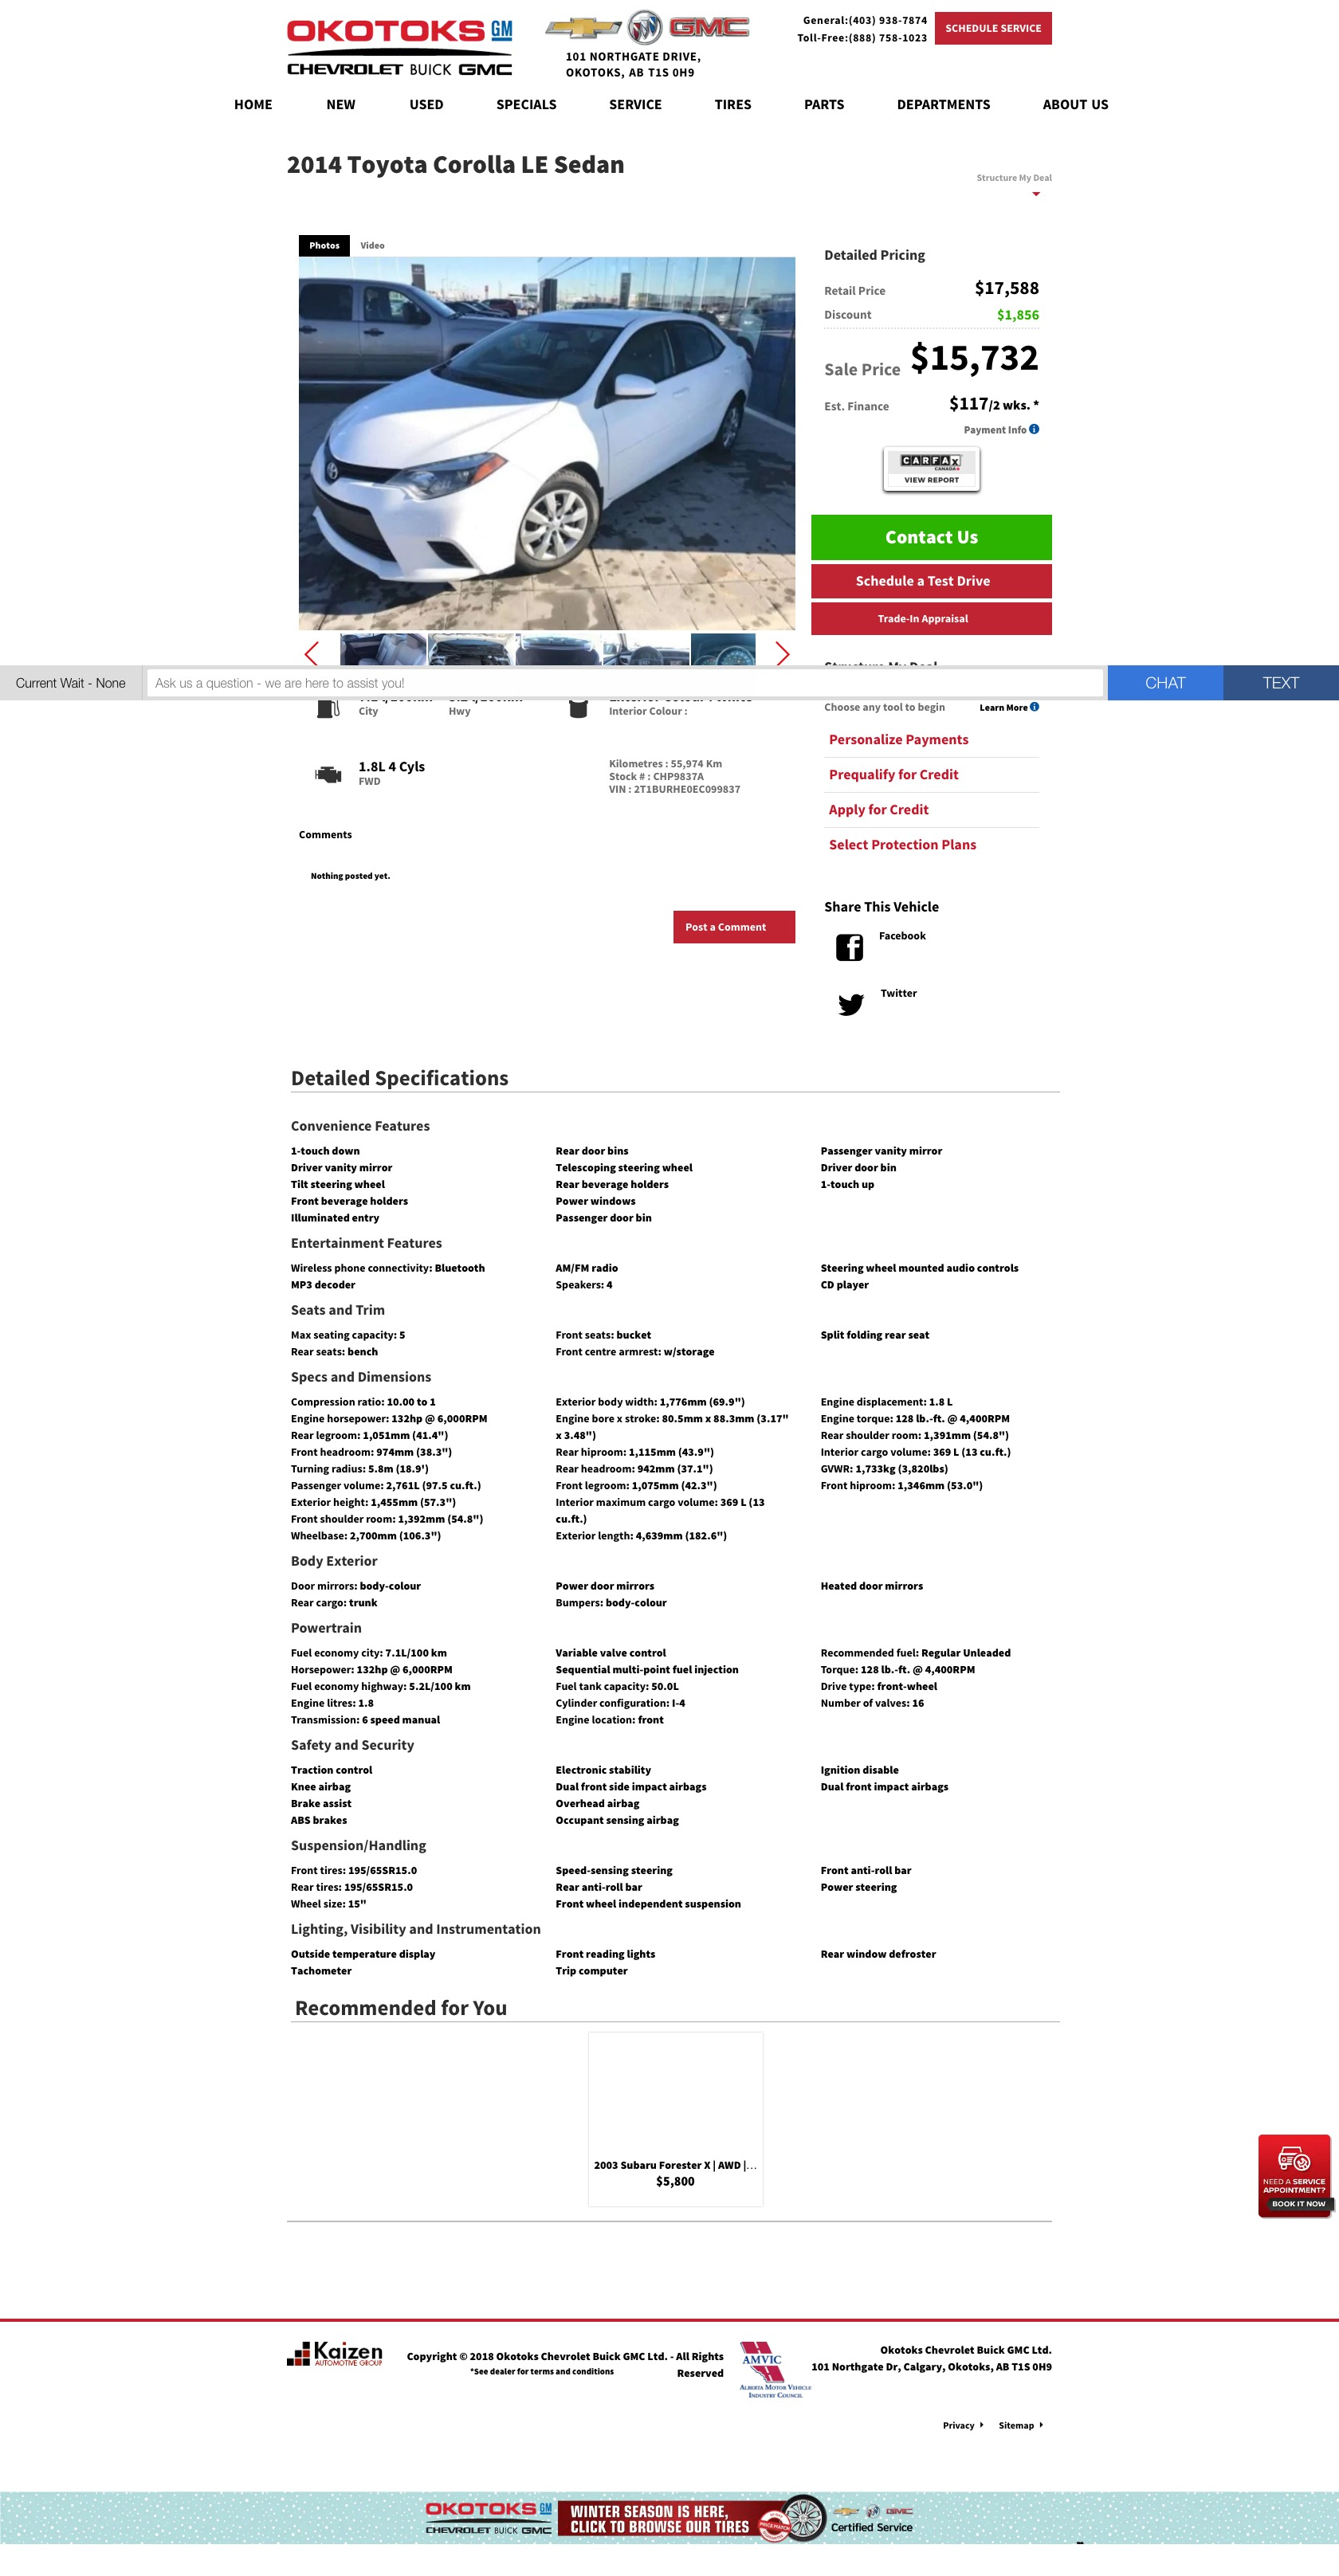car: (773, 641, 790, 668)
